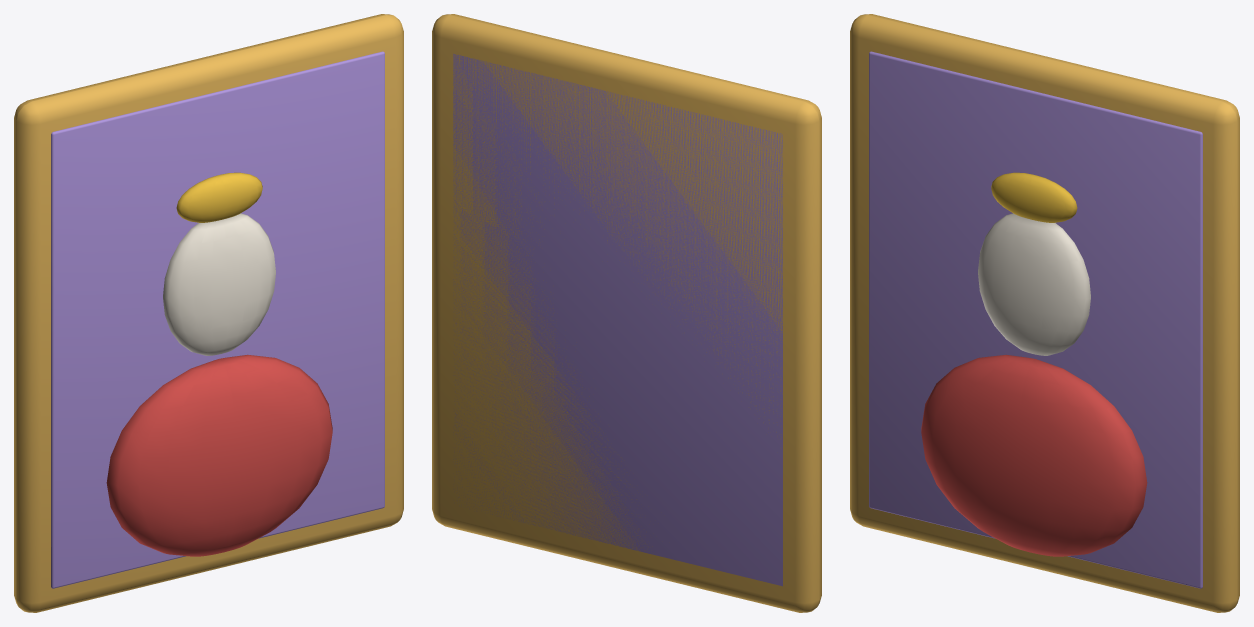
Rendered from gift-lady-v.glb.
3 views of the same model, side by side, from view 1: azimuth 30°, elevation 25°; view 2: azimuth 150°, elevation 25°; view 3: azimuth 330°, elevation 25° (orthographic).
Visible parts, largest first — view 1: gift-lady-v; view 2: gift-lady-v; view 3: gift-lady-v.
Boxes of the visible parts, bbox=[...] form: gift-lady-v: bbox=[14, 14, 403, 612]; gift-lady-v: bbox=[432, 14, 821, 612]; gift-lady-v: bbox=[850, 14, 1239, 612].
Size of the model in its own units: 0.75 by 0.95 by 0.126.
